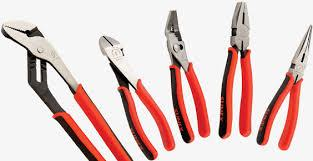pliers: (0, 20, 97, 160), (98, 34, 175, 160), (255, 22, 312, 149), (217, 0, 253, 138)
